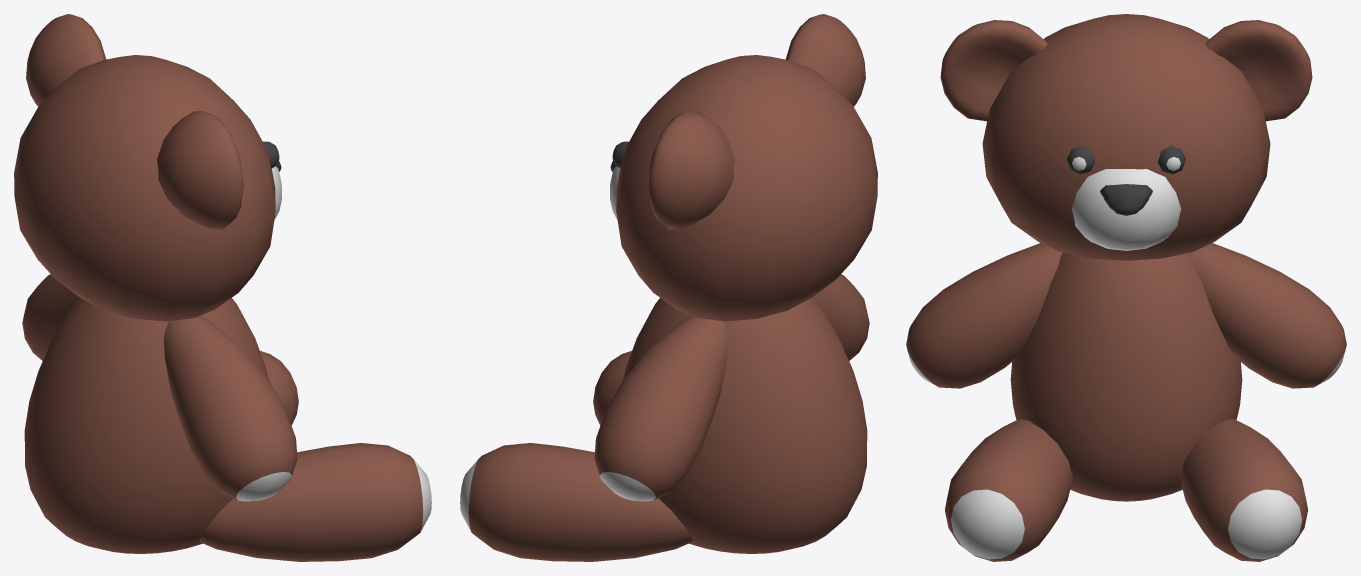
File: TeddyBear.fbx
The picture shows the model from 3 angles, left to right: view 1: azimuth 30°, elevation 25°; view 2: azimuth 150°, elevation 25°; view 3: azimuth 270°, elevation 25°; orthographic projection. The views are drawn at different scales.
Parts seen in each view (by area): view 1: TeddyBear; view 2: TeddyBear; view 3: TeddyBear.
Boxes of the visible parts, x1,y1,x2,y2 form: TeddyBear: (14, 14, 431, 561); TeddyBear: (460, 14, 877, 561); TeddyBear: (906, 14, 1346, 561).
Size of the model in its own units: 35.94 by 50.57 by 43.92.
